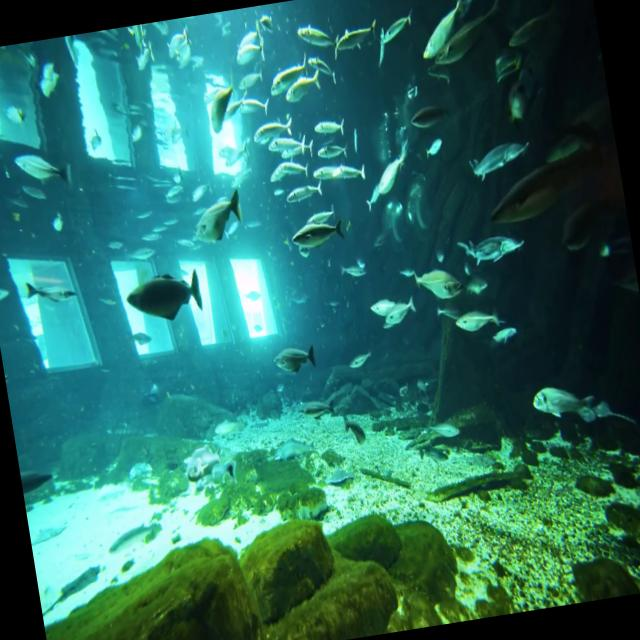fish: (123, 264, 206, 328), (411, 0, 473, 58), (188, 190, 248, 246), (12, 142, 72, 193), (414, 263, 462, 304), (288, 217, 346, 250), (274, 340, 320, 380)
